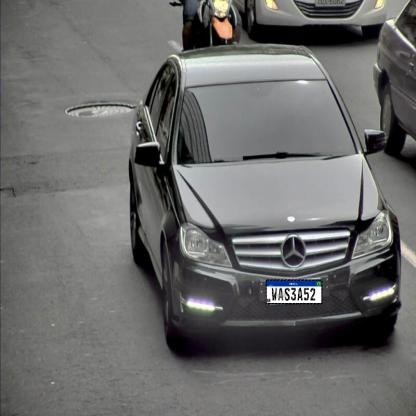PlacaM: (266, 280, 322, 304)
